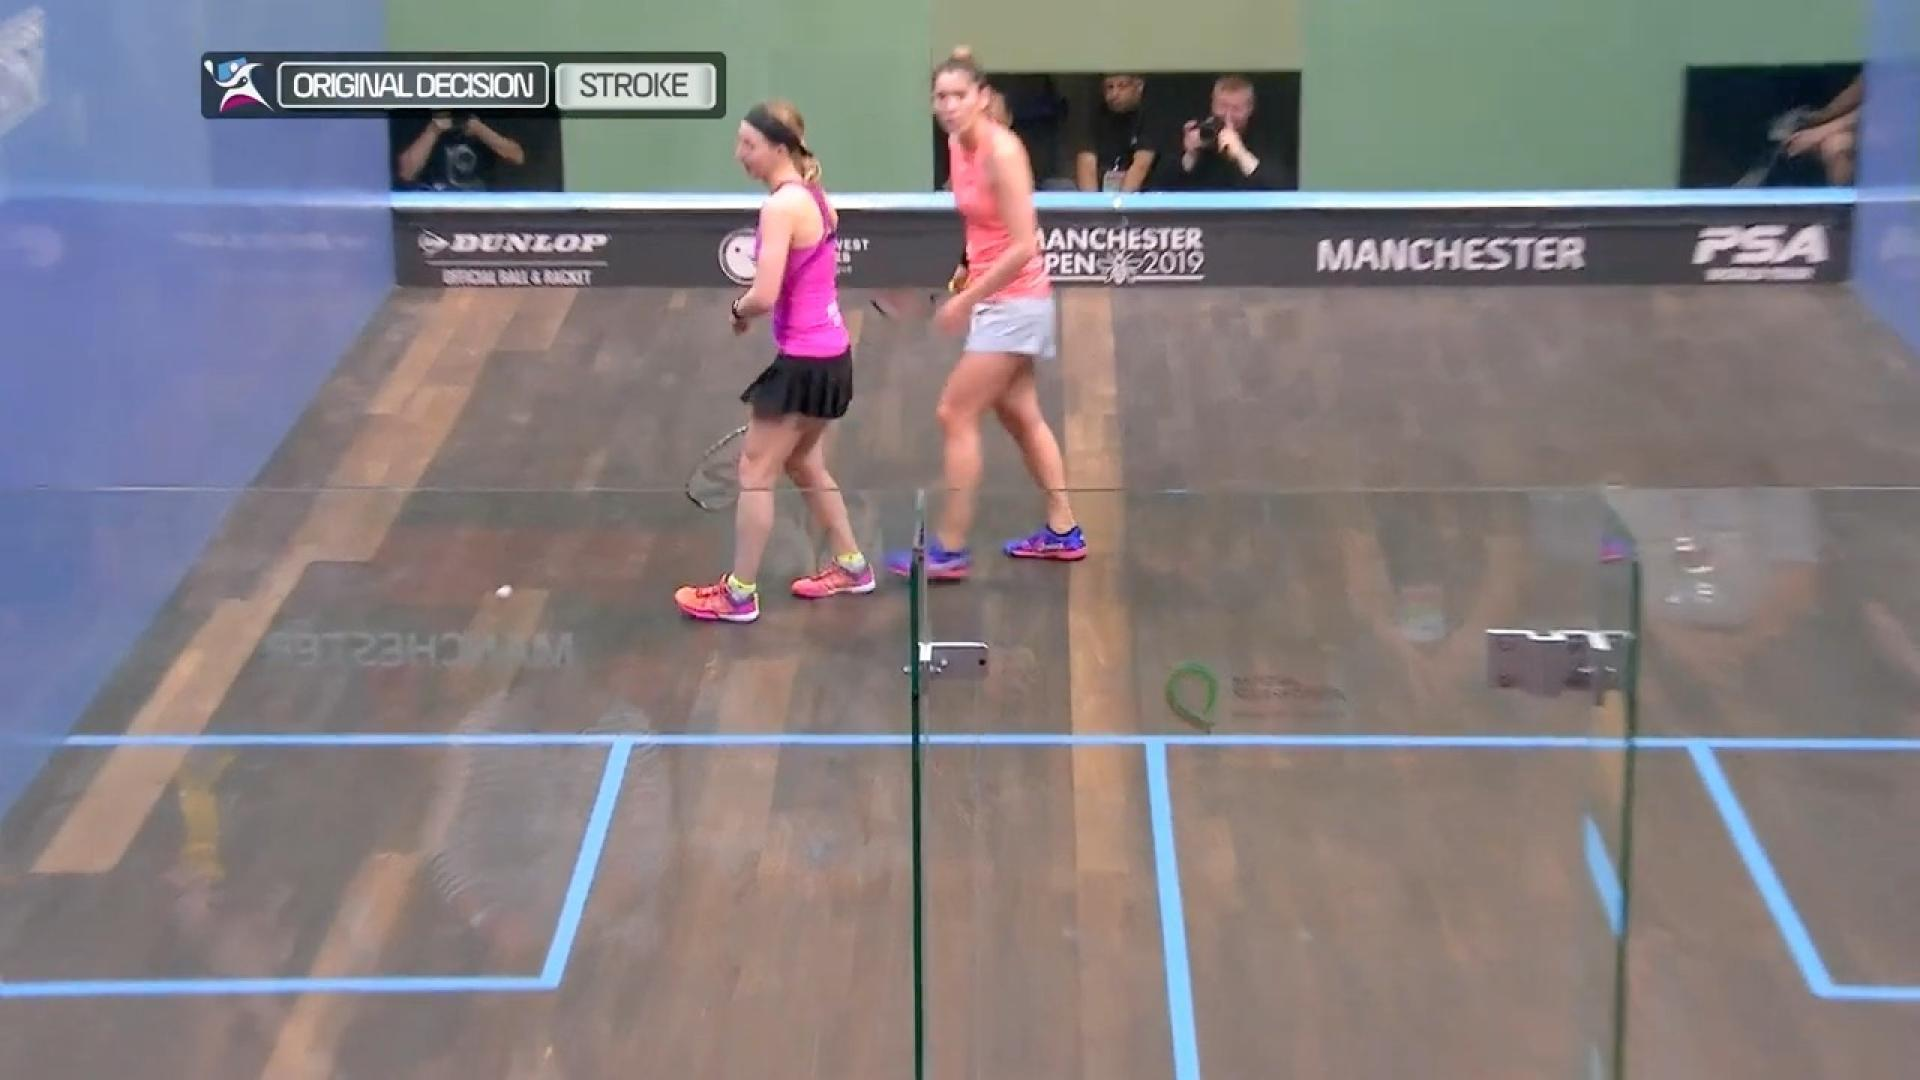Squash-Ball: (469, 553, 535, 630)
